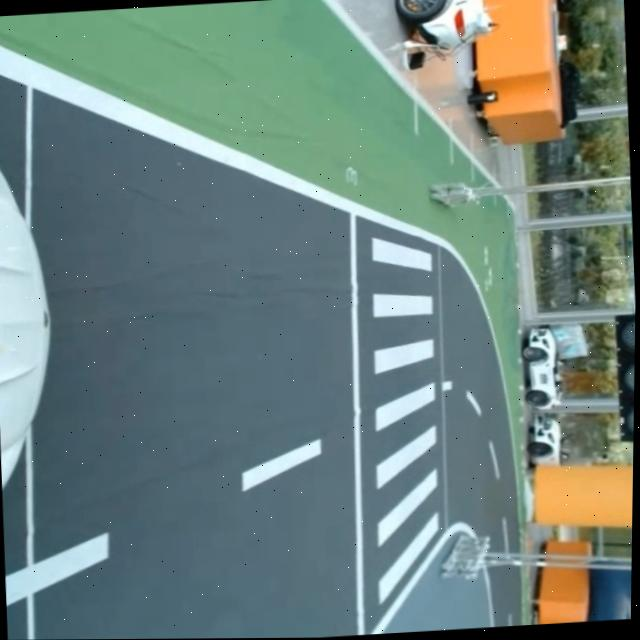traffic-light: (610, 308, 635, 448)
